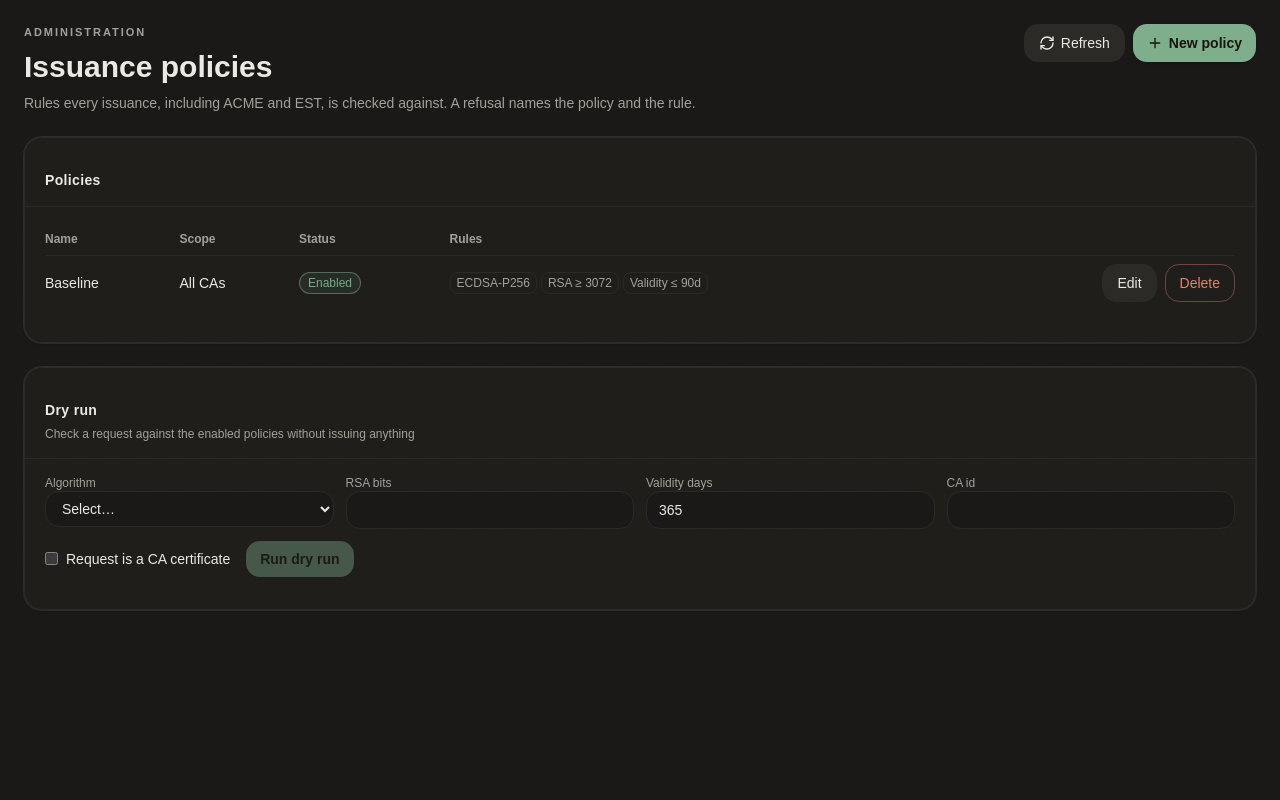
Test: Policies page › shows Pending approval on a 202 and does not refetch the row
The width and height of the screenshot is (1280, 800).
Expected: the text "Baseline" is shown, x1=45 y1=255 x2=180 y2=310
Step 1. Click the button "Edit" → (1129, 282), box x1=1102 y1=264 x2=1156 y2=302
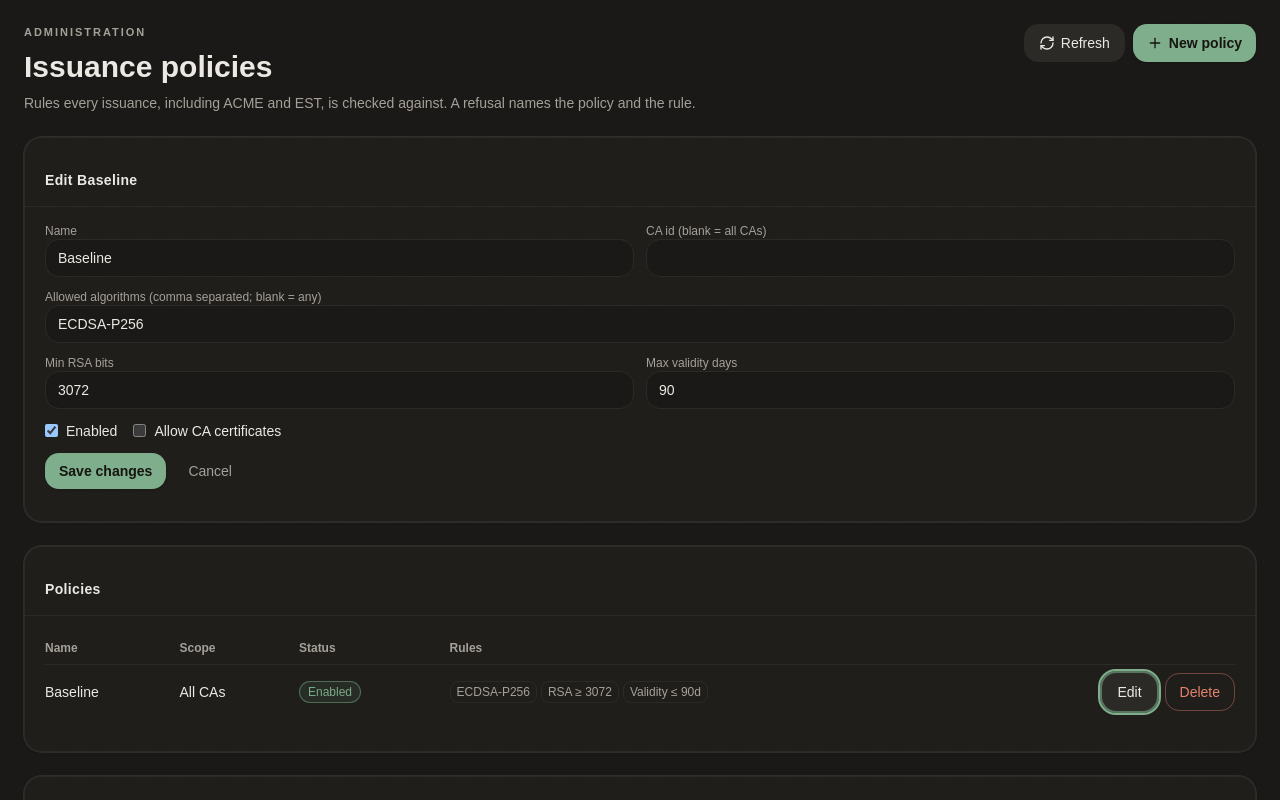
Step 2. Replace the text in the field labelled "Min RSA bits" with "2048" → (340, 390), box x1=45 y1=370 x2=634 y2=408
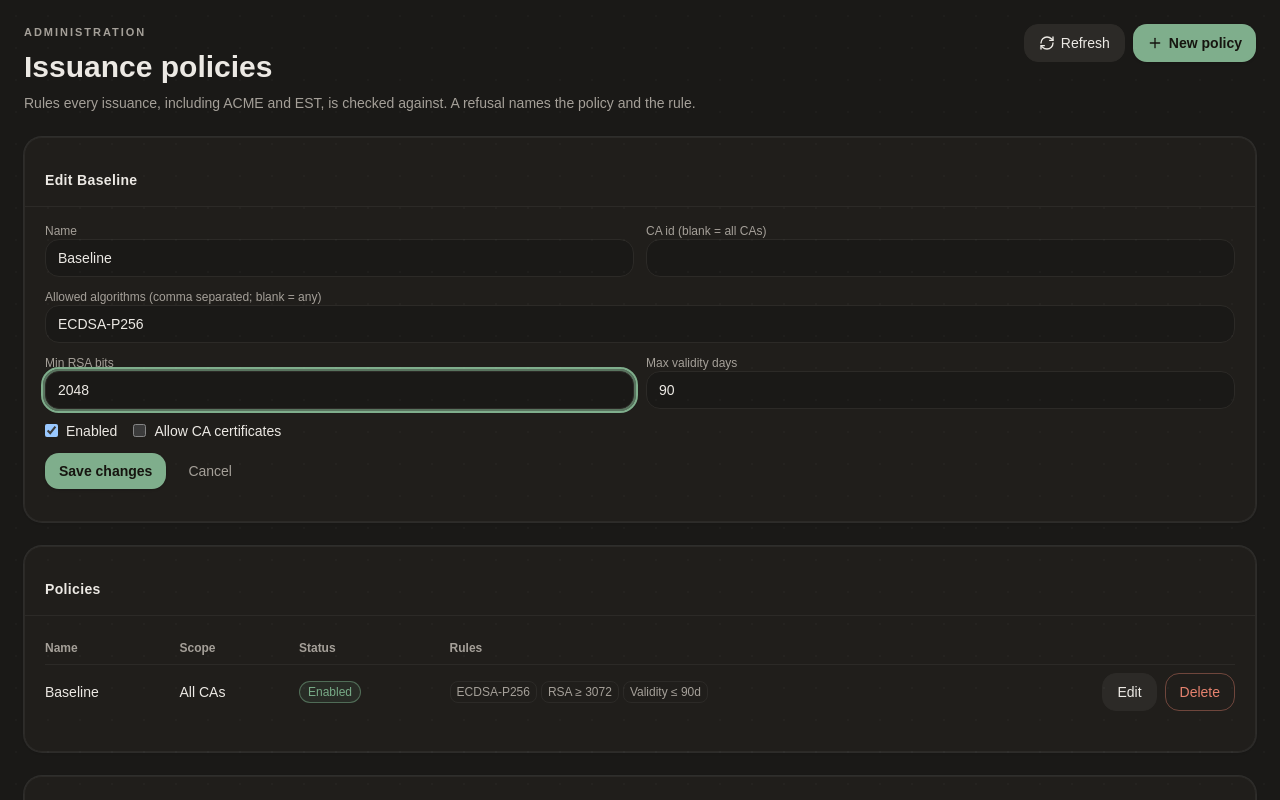
Step 3. Click the button "Save changes" → (106, 470), box x1=45 y1=452 x2=166 y2=488
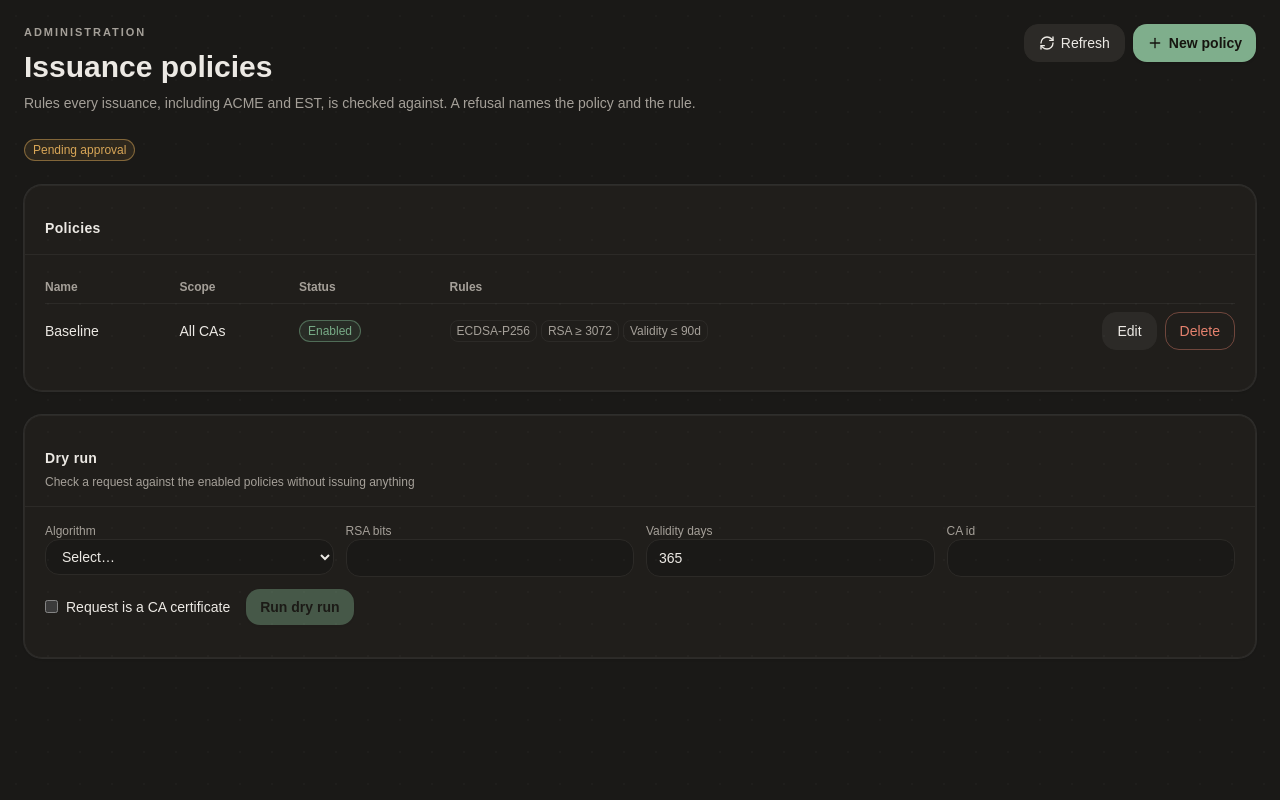
Expected: the text "Pending approval" is shown, x1=24 y1=138 x2=135 y2=160
